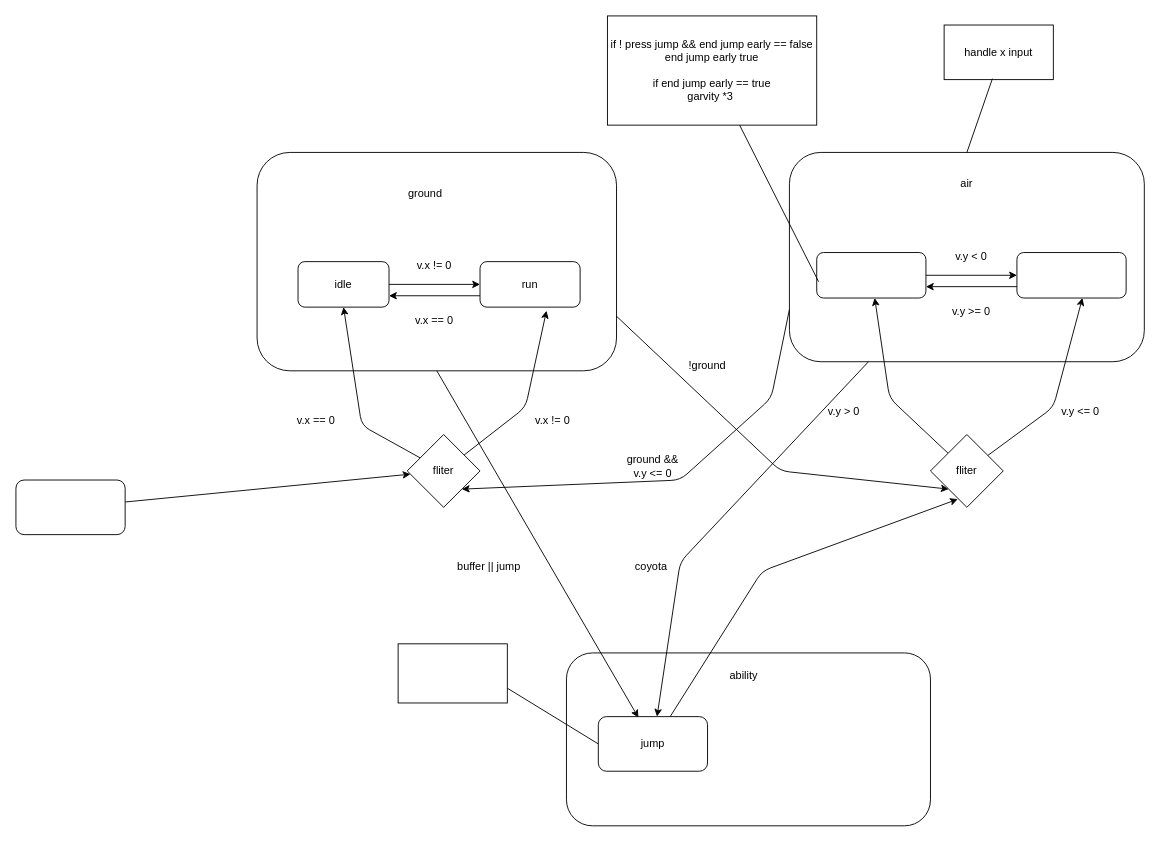
The diagram is 1160 pixels wide and 842 high, and some of its shapes have lost their labels. The shapes that lost their labels are listed below. From the top down, each one's box as (x1, y1, x2, y2) in pixels, then its label:
(816, 252, 926, 298): up
(1016, 252, 1126, 298): fall
(15, 479, 125, 535): entry
(397, 643, 507, 703): v.y = jumpforce coyota = false jump buffer = false end jump early = false
